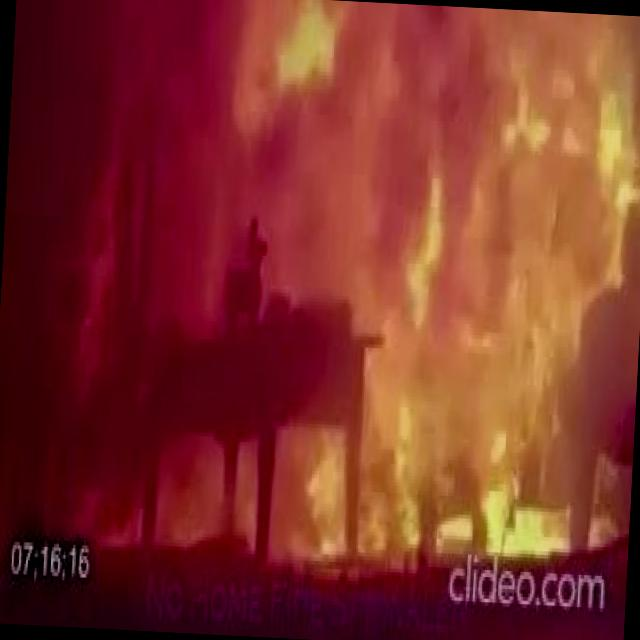fire: (65, 0, 640, 541)
